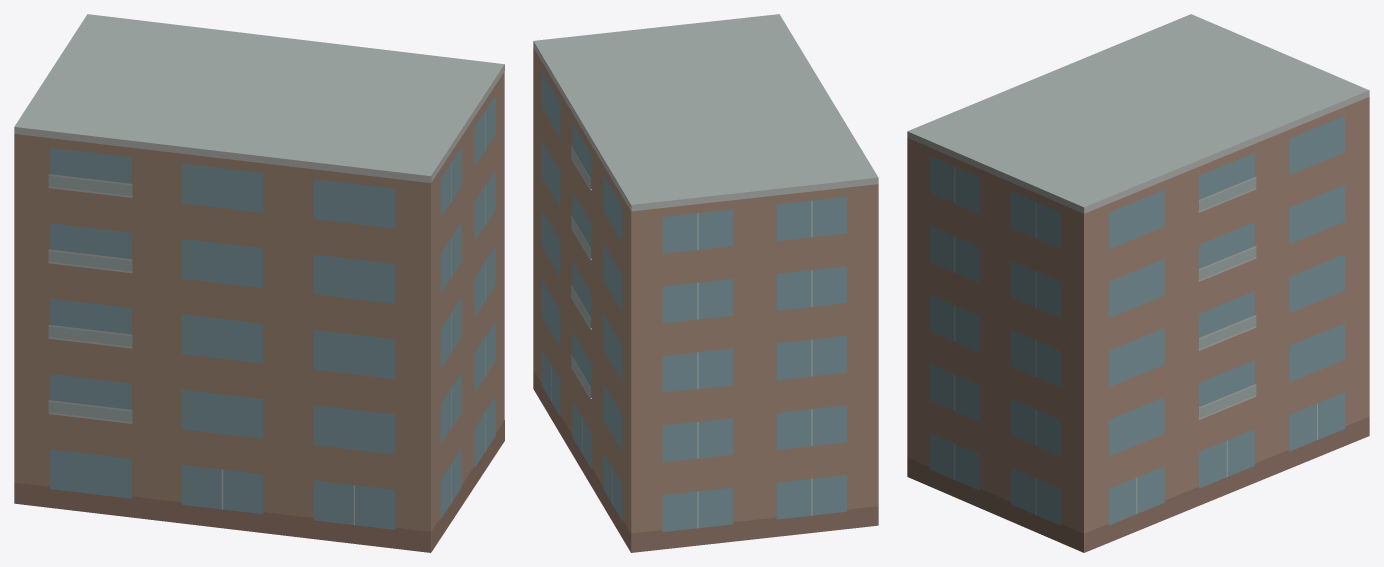
File: survey-upis-33046299.glb
3 renders of one model, left to right at view 1: azimuth 30°, elevation 25°; view 2: azimuth 150°, elevation 25°; view 3: azimuth 270°, elevation 25°, orthographic. The views are drawn at different scales.
Visible parts, largest first — view 1: survey-upis-33046299.tmp; view 2: survey-upis-33046299.tmp; view 3: survey-upis-33046299.tmp.
Part boxes in pixels (x1,y1,x2,y2): survey-upis-33046299.tmp: (14, 14, 504, 552); survey-upis-33046299.tmp: (533, 14, 878, 552); survey-upis-33046299.tmp: (907, 14, 1369, 552).
Bounding box in the file's own units: 15.86 × 13.2 × 16.02.
